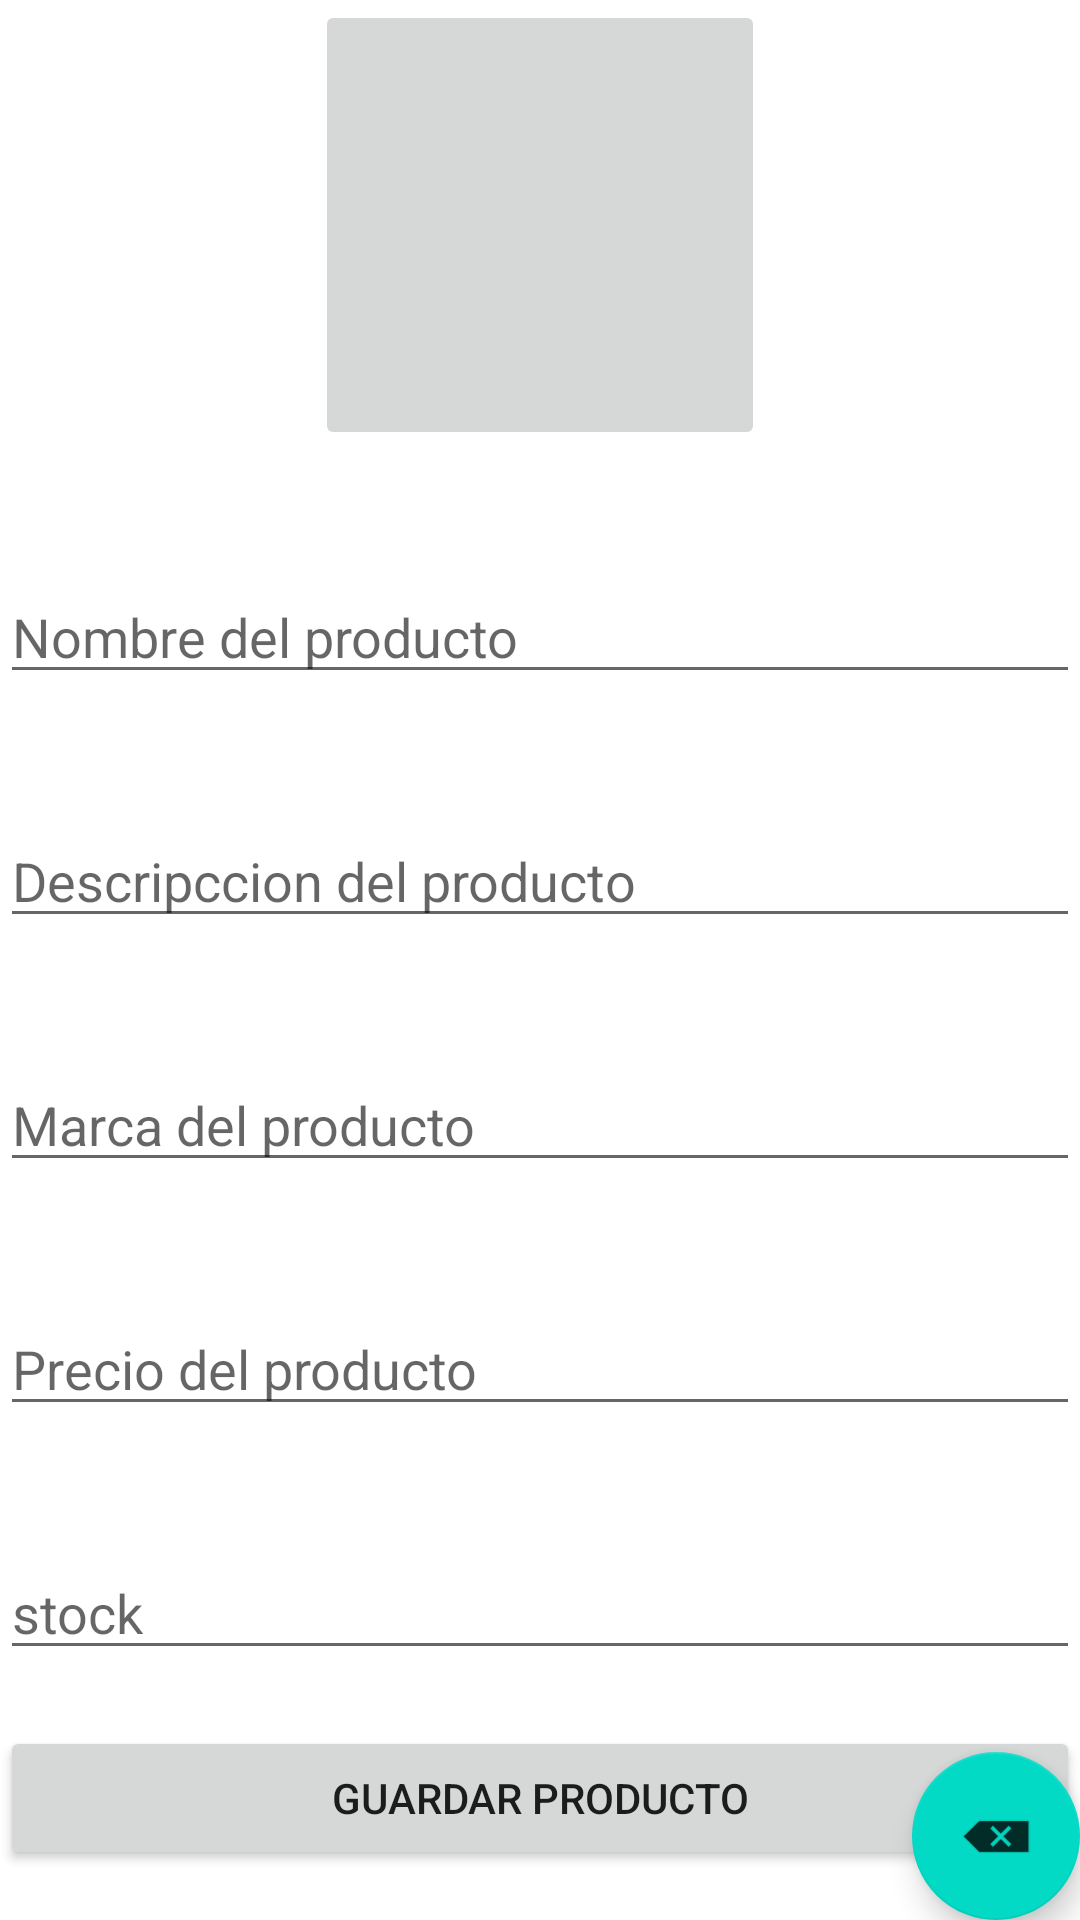

Icons on this 1080×1920 Android screen, each with the point to tap as (x,y):
delete: (996,1836)
